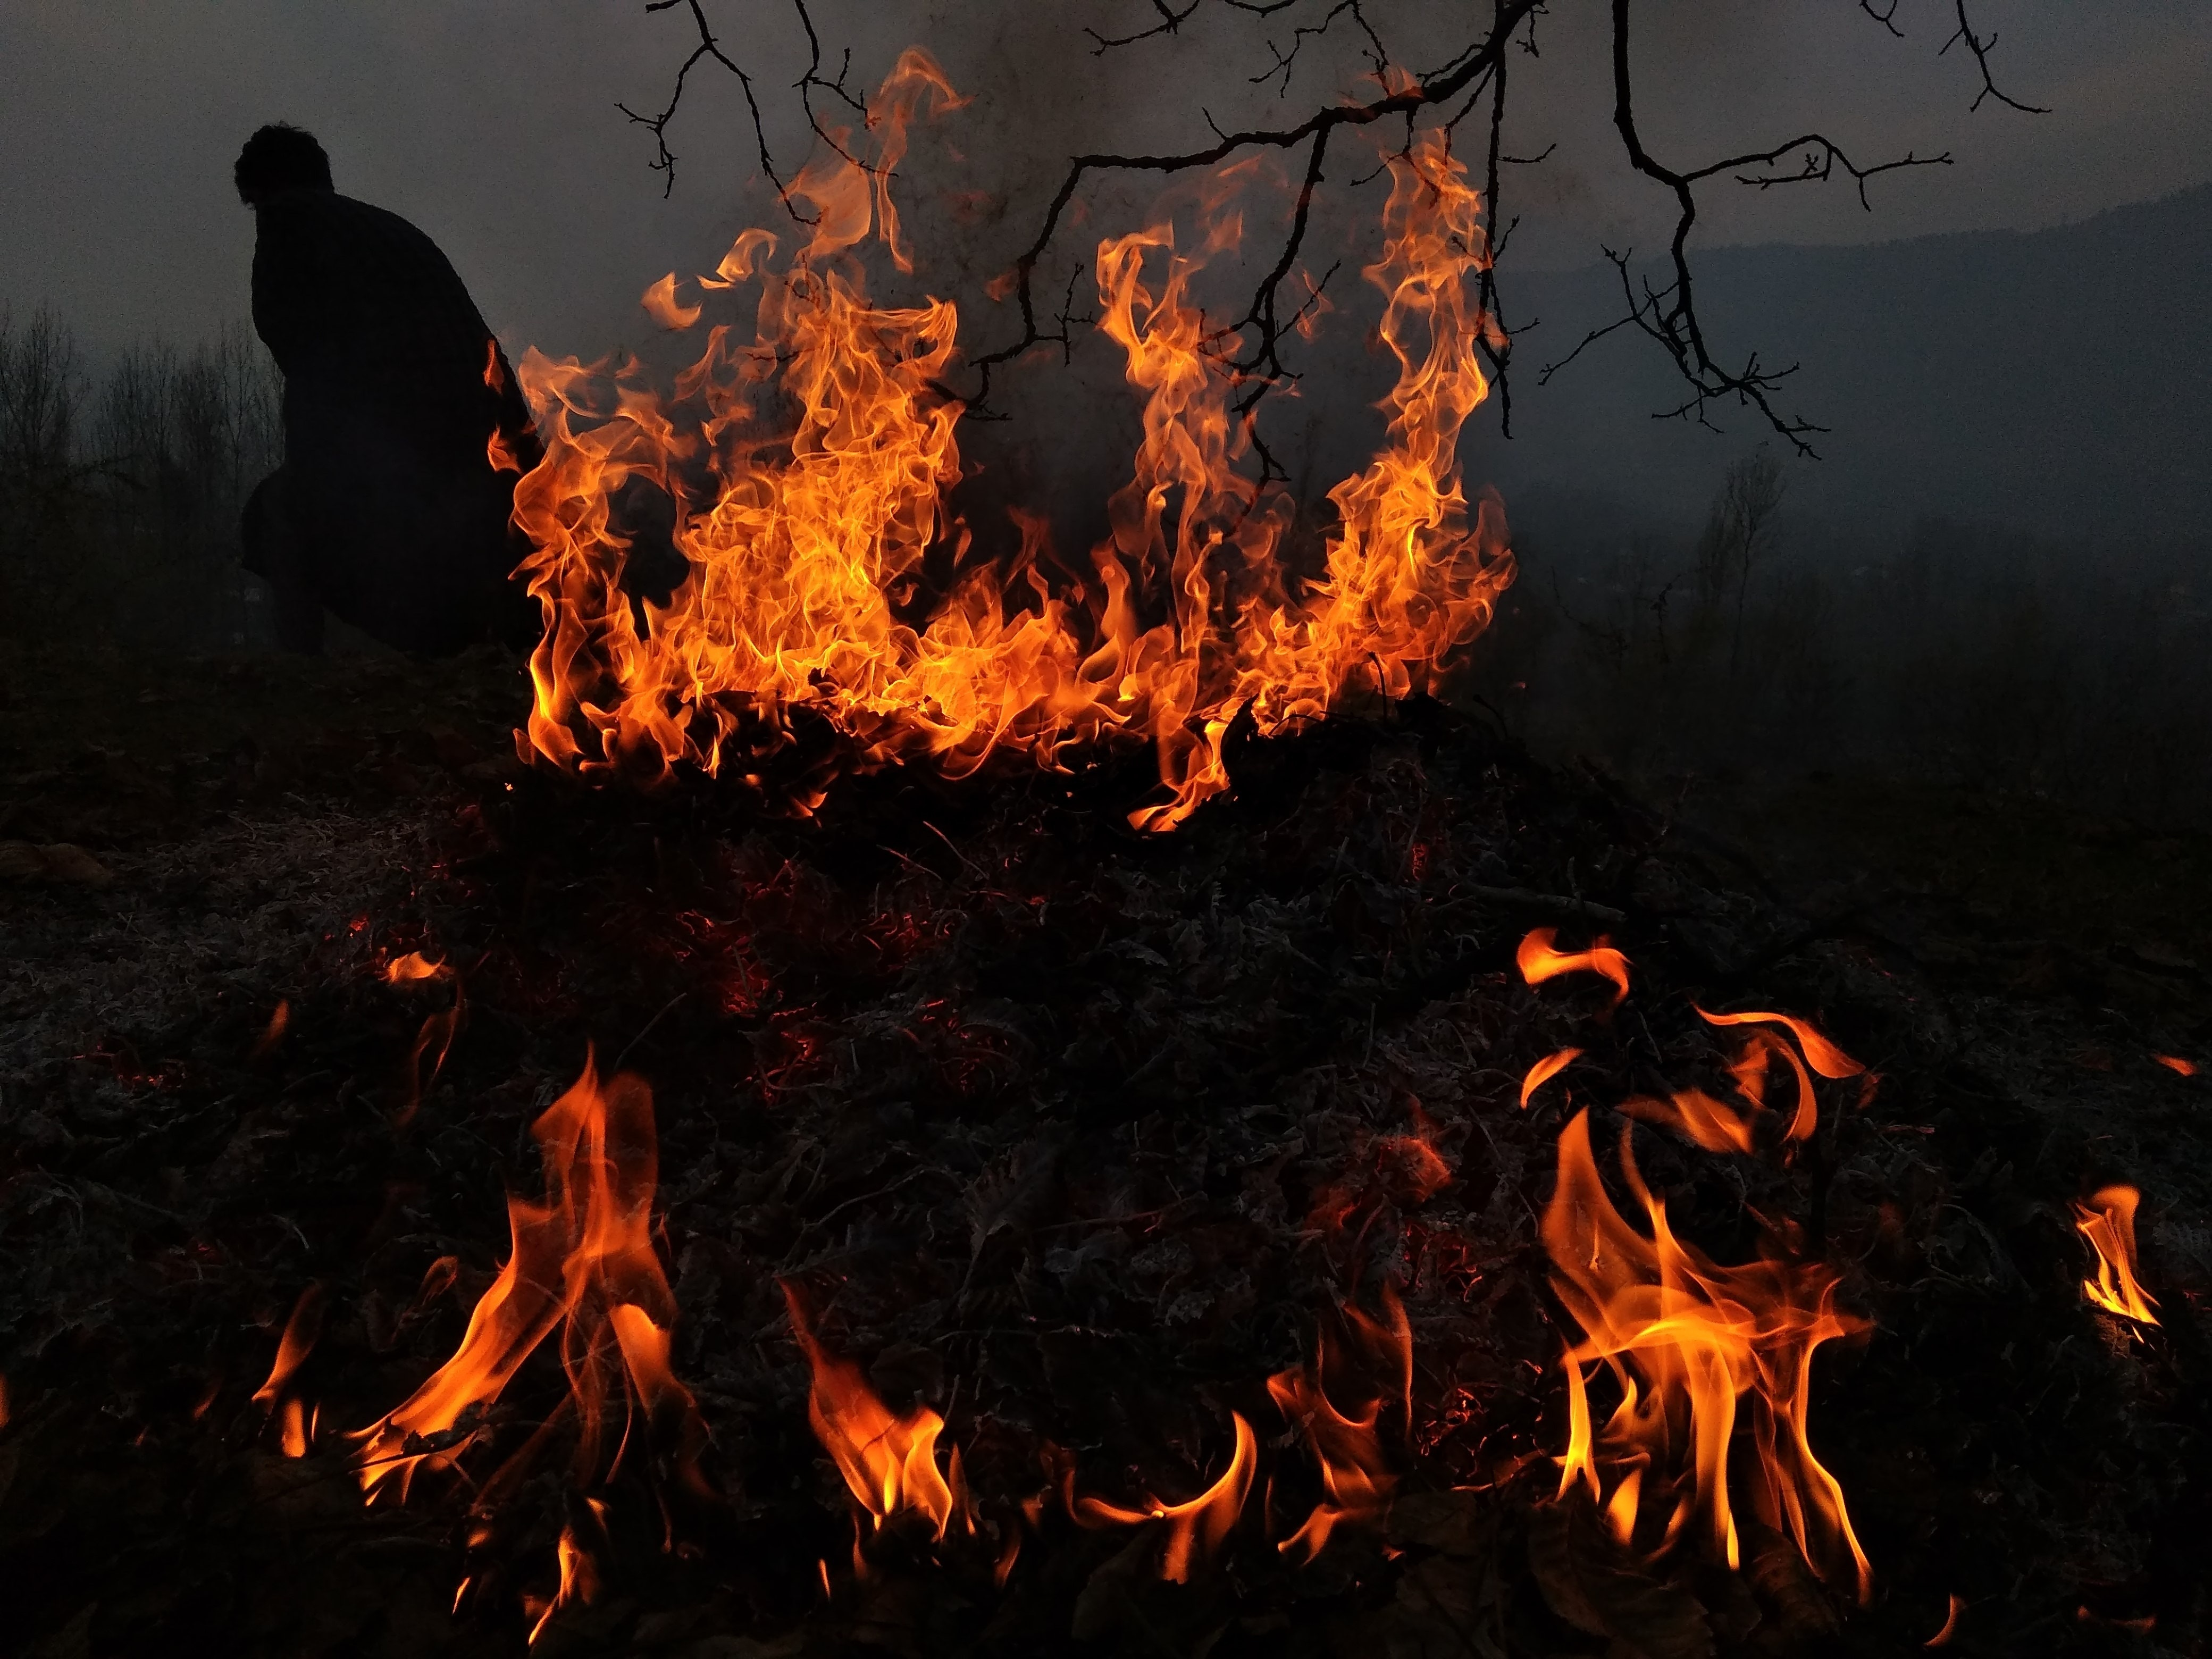fire: (486, 92, 1533, 831), (272, 1040, 1001, 1642)
